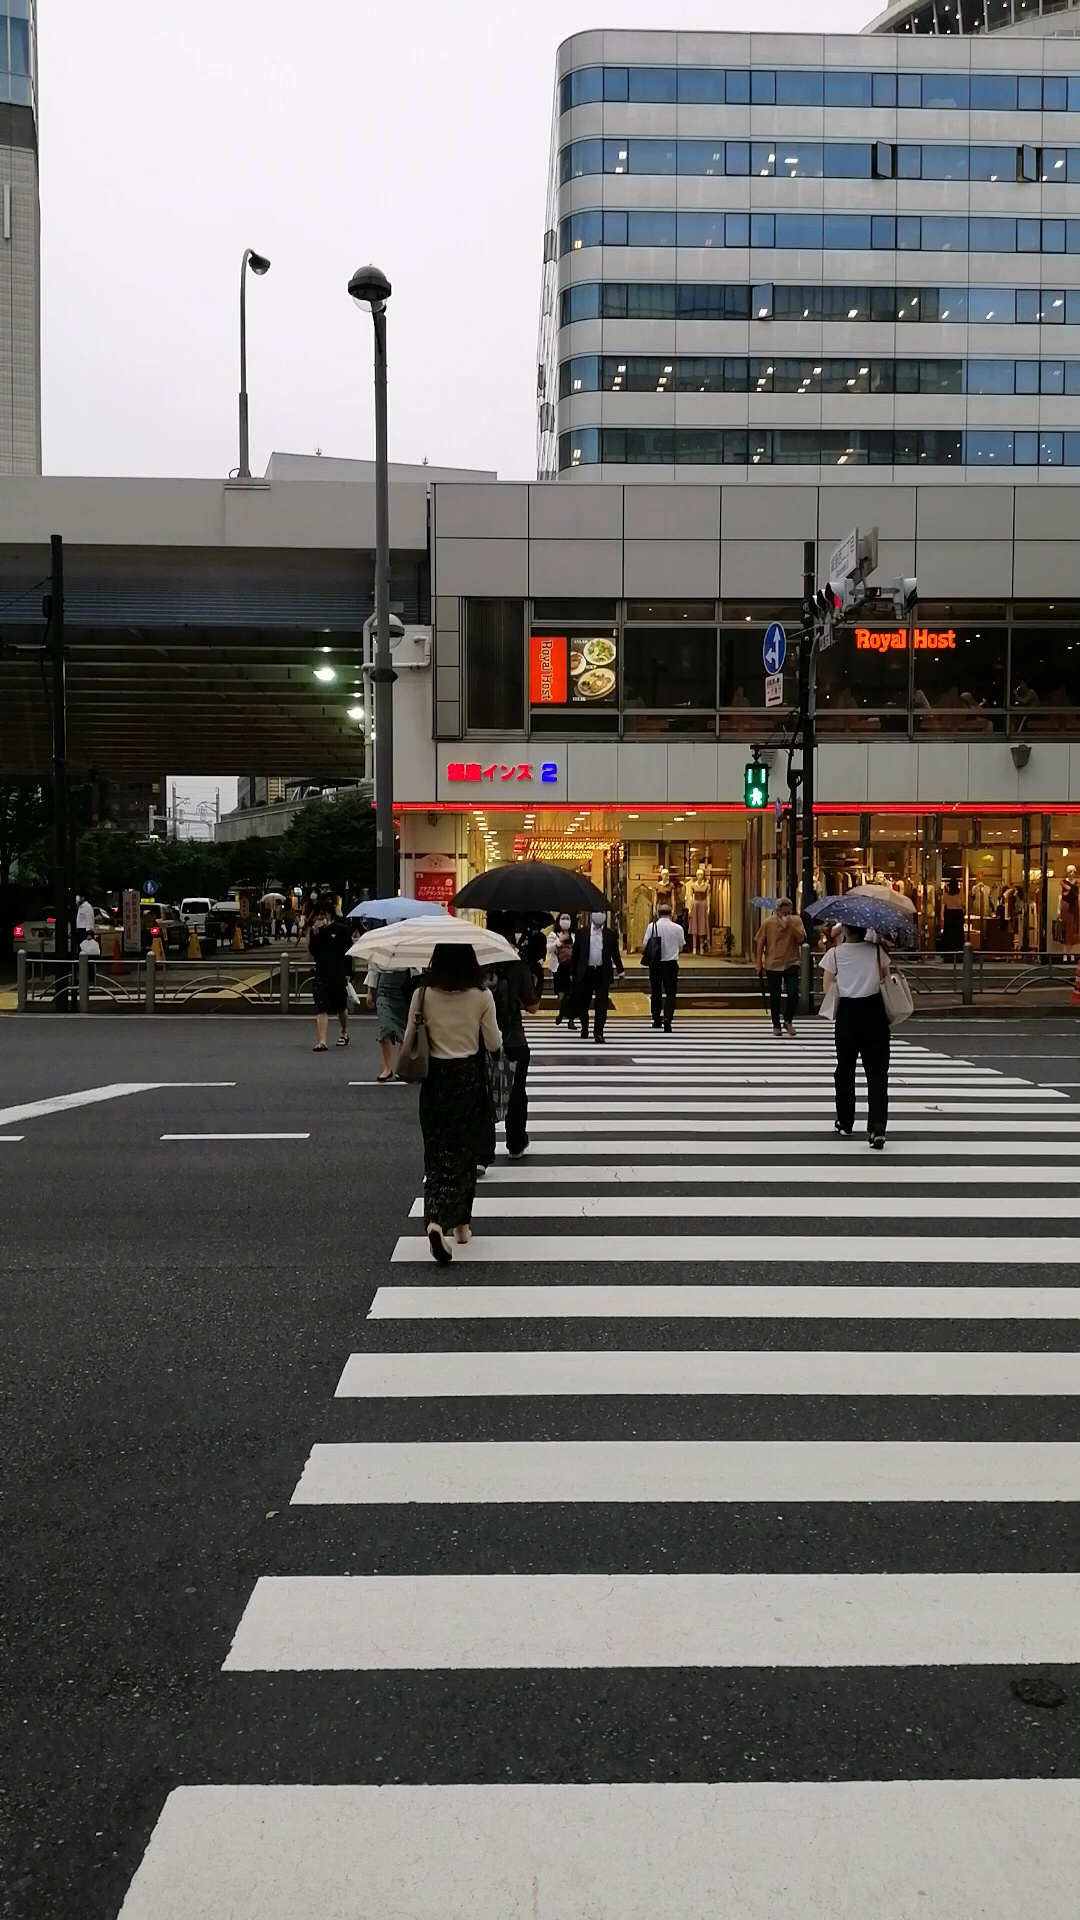green: (740, 760, 771, 811)
